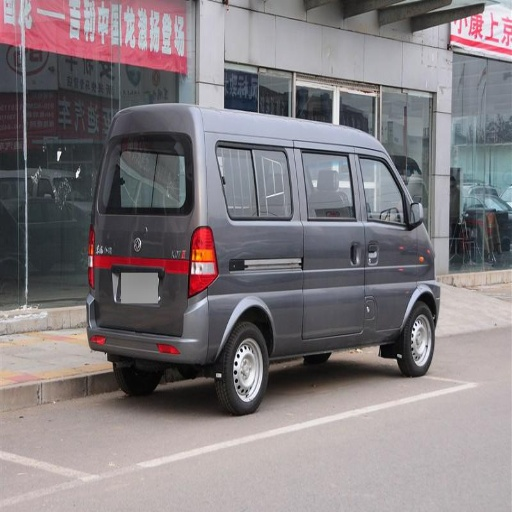back_right_door: (213, 139, 360, 290)
trunk: (99, 215, 343, 359)
